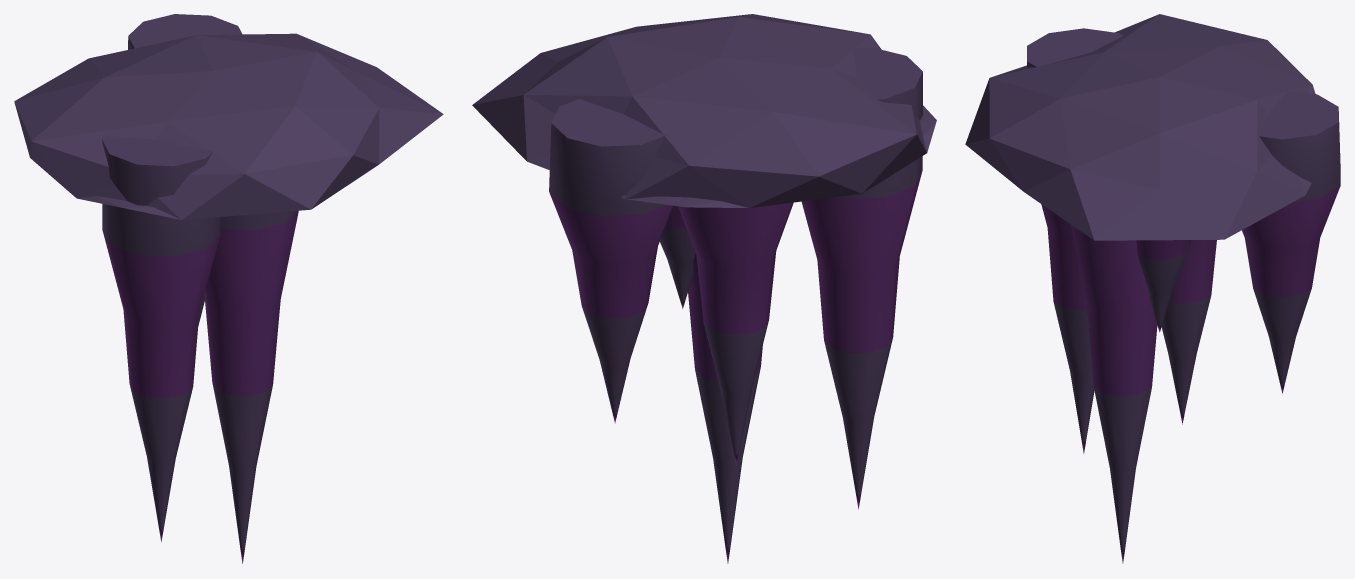
Rendered from W4_Stalactite_B.fbx.
The picture shows the model from 3 angles, left to right: view 1: azimuth 30°, elevation 25°; view 2: azimuth 150°, elevation 25°; view 3: azimuth 270°, elevation 25°; orthographic projection. The views are drawn at different scales.
Parts seen in each view (by area): view 1: W4_Stalactite_B; view 2: W4_Stalactite_B; view 3: W4_Stalactite_B.
Part boxes in pixels (x1=…): W4_Stalactite_B: x1=14, y1=14, x2=443, y2=563; W4_Stalactite_B: x1=472, y1=14, x2=936, y2=563; W4_Stalactite_B: x1=965, y1=14, x2=1340, y2=563.
Bounding box in the file's own units: 3.39 × 4.13 × 2.91.
